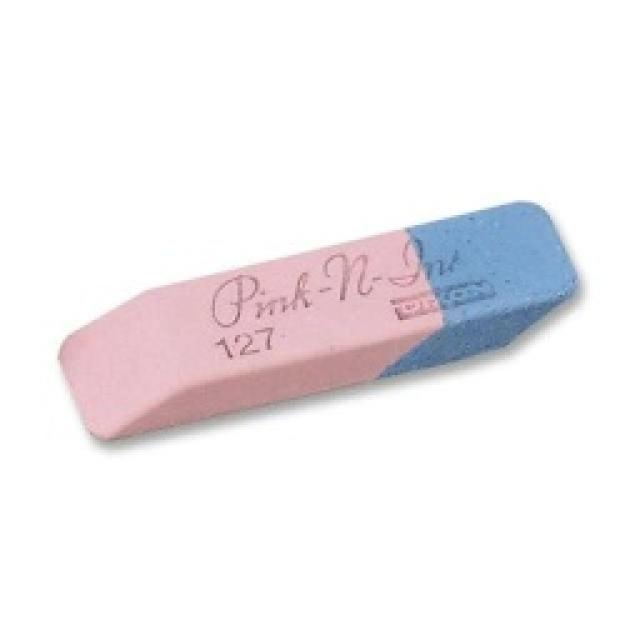Silgi: (48, 199, 578, 440)
